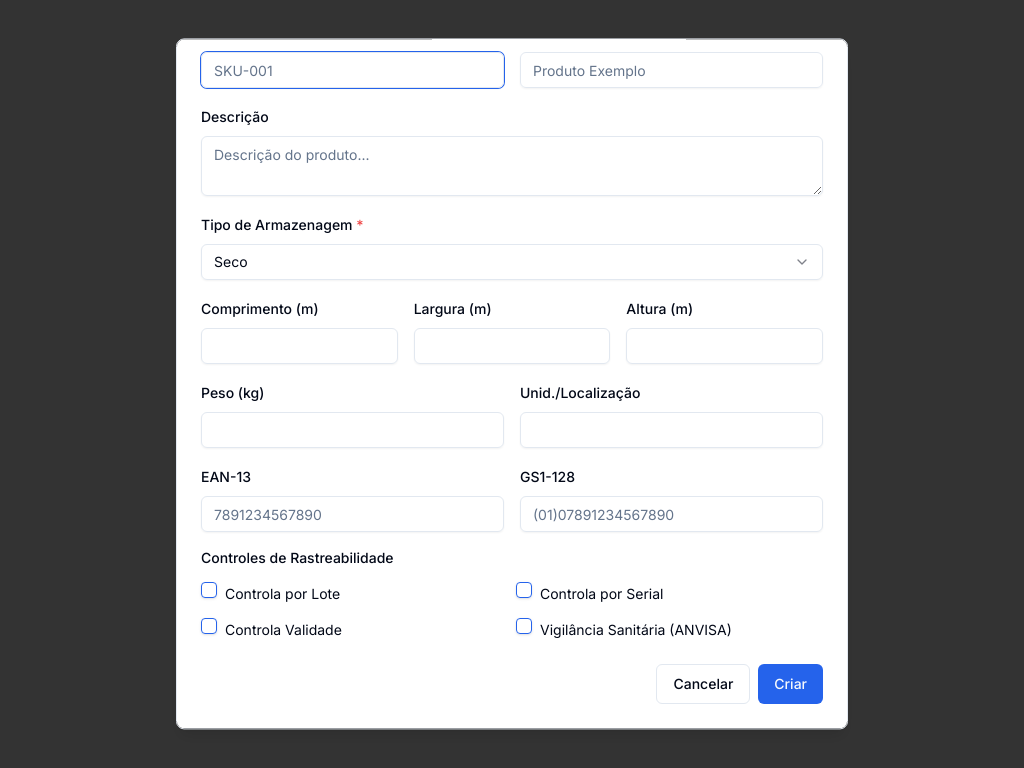
Test: ProductForm › exibe erro quando SKU está vazio no submit
(page scrolled)
Click the button "Criar" at (791, 684), box [758,664,823,704]
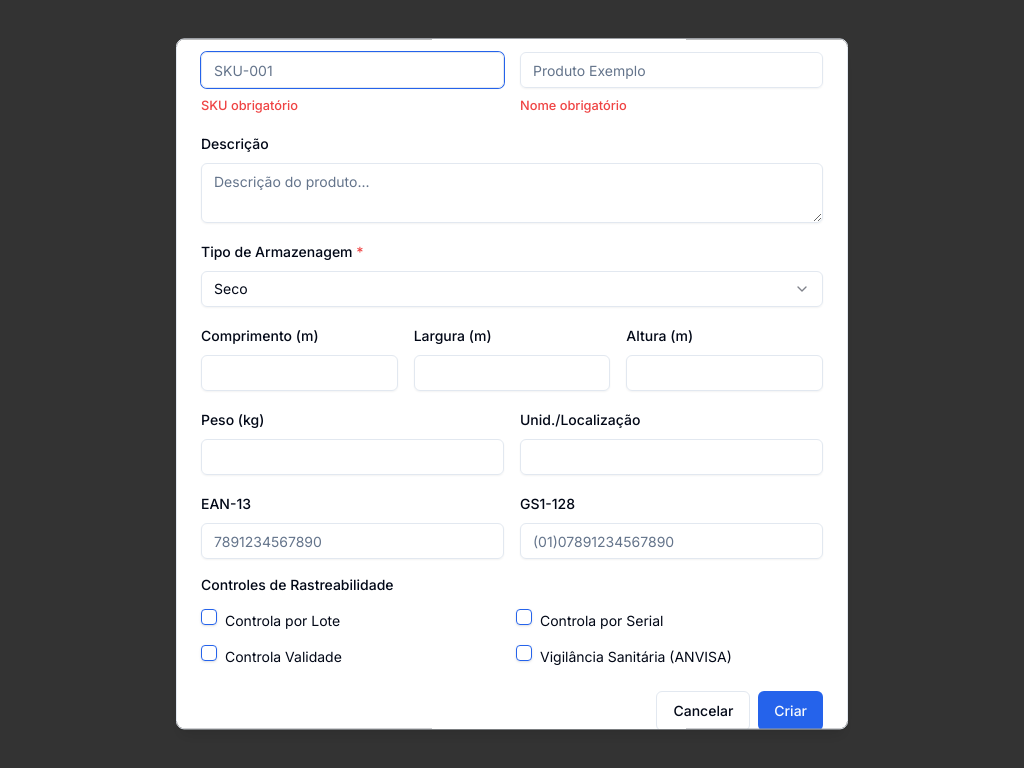
Expected: the text "SKU obrigatório" is shown, [201,98,298,113]
